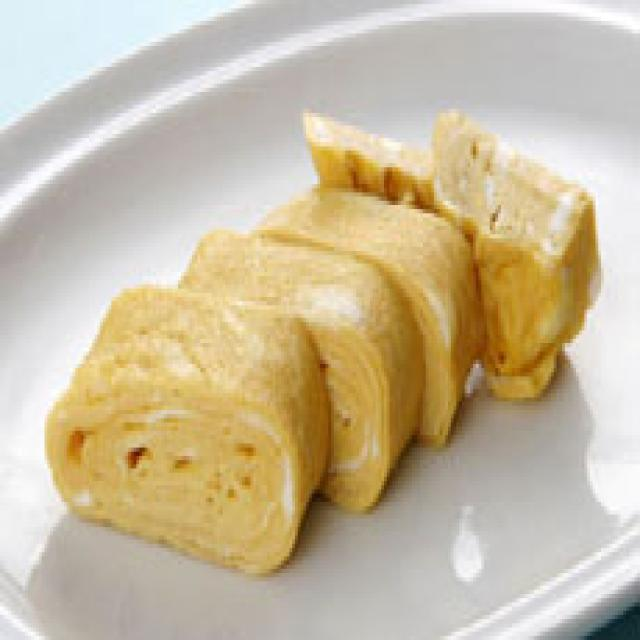鸡蛋料理: (36, 92, 607, 577)
